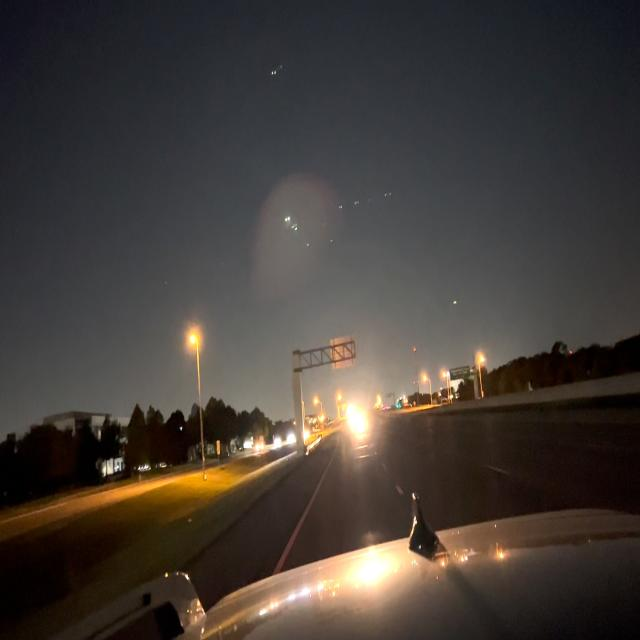back-of-sign: (329, 334, 358, 372)
